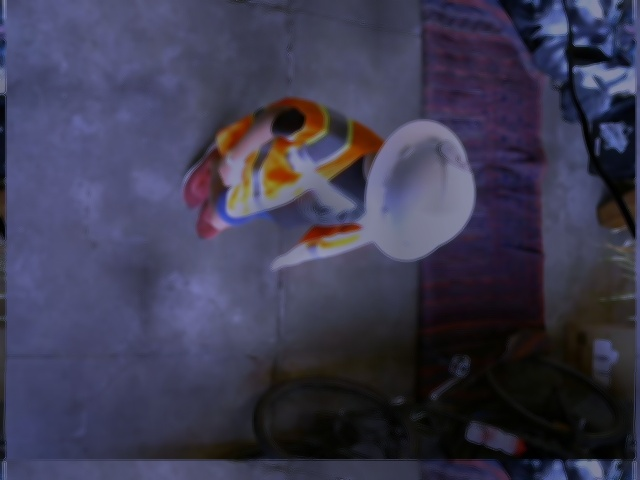three: (436, 137, 473, 171)
